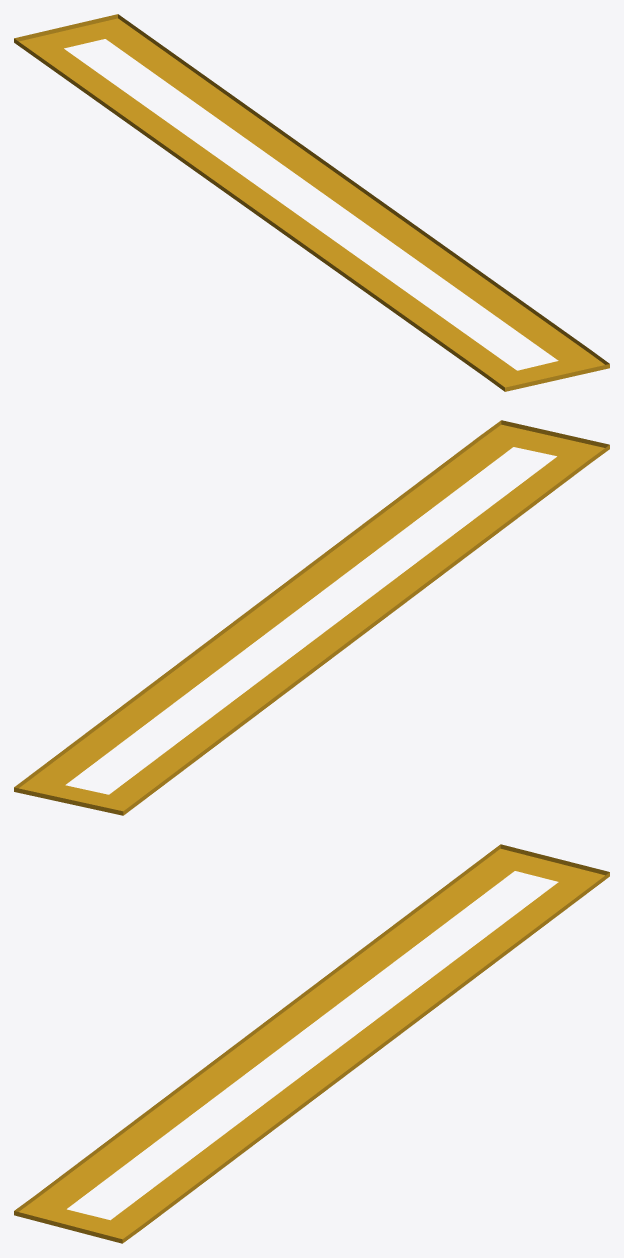
Rendered from original-23.obj.
3 renders of one model, top to bottom at view 1: azimuth 30°, elevation 25°; view 2: azimuth 150°, elevation 25°; view 3: azimuth 330°, elevation 25°, orthographic. The views are drawn at different scales.
Parts seen in each view (by area): view 1: #ID118; view 2: #ID118; view 3: #ID118.
Part boxes in pixels (x1=…): #ID118: x1=14, y1=14, x2=609, y2=391; #ID118: x1=14, y1=420, x2=609, y2=815; #ID118: x1=14, y1=844, x2=609, y2=1243.
Bounding box in the file's own units: 0.0281 × 0.00144 × 0.2034.
